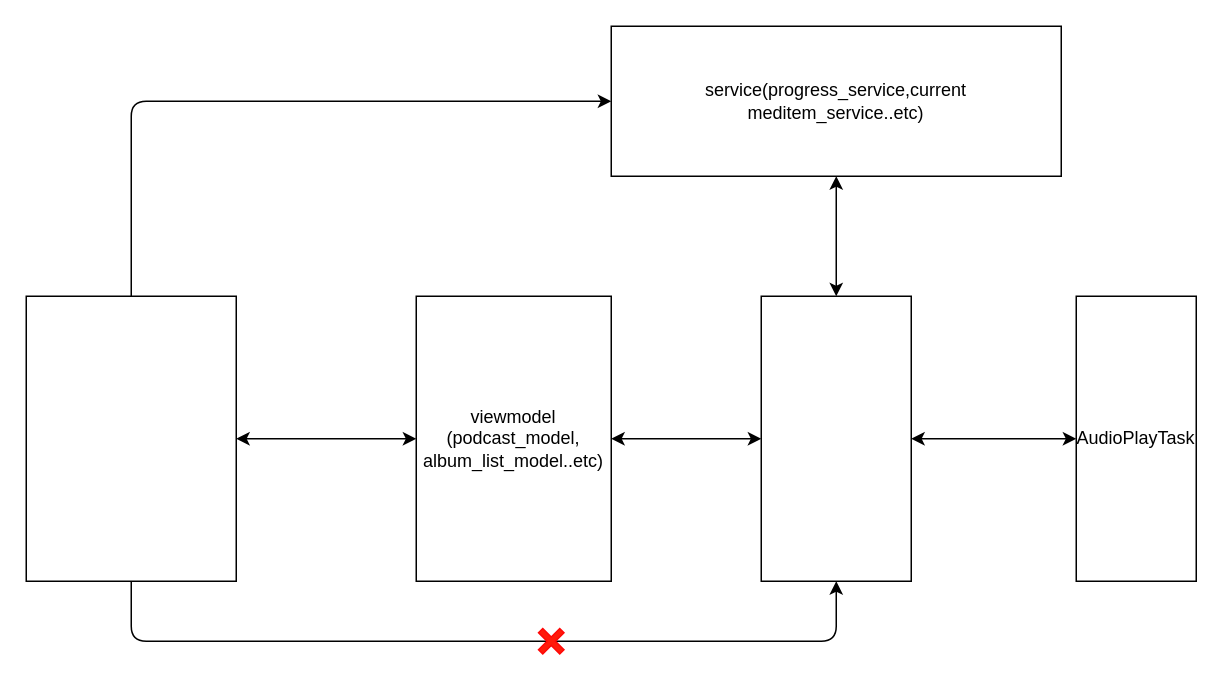
This 1223x690 diagram has some shape labels left out. The shapes that lost their labels are listed below. From the top down, each one's centre as x and y in pixels, then its label:
point (130, 438): UI( podcast_detail album_list_page.dart..etc)
point (835, 438): AudioPlayServce
